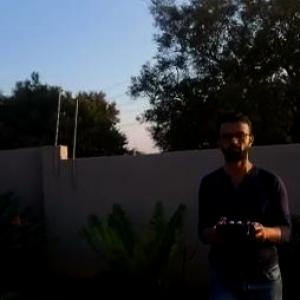follow: (194, 106, 295, 299)
